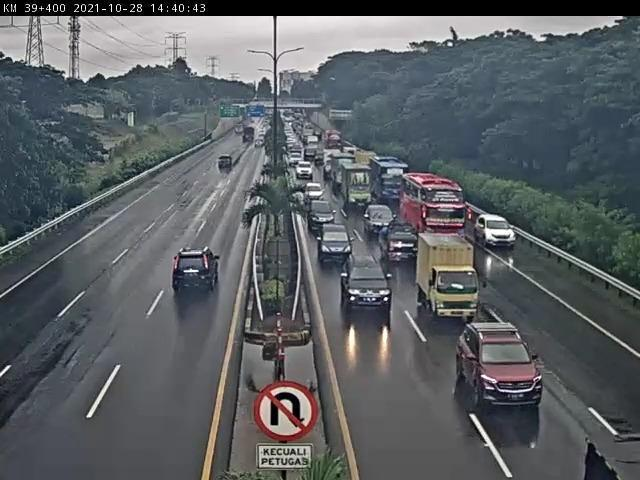bus: (399, 173, 468, 251), (369, 157, 409, 202)
car: (456, 323, 547, 411), (340, 254, 395, 314), (172, 247, 223, 296), (378, 220, 421, 264), (475, 214, 520, 250), (316, 224, 355, 262), (308, 199, 339, 233), (365, 205, 397, 235), (302, 182, 326, 204)
truck: (416, 233, 482, 326), (340, 163, 375, 211)
